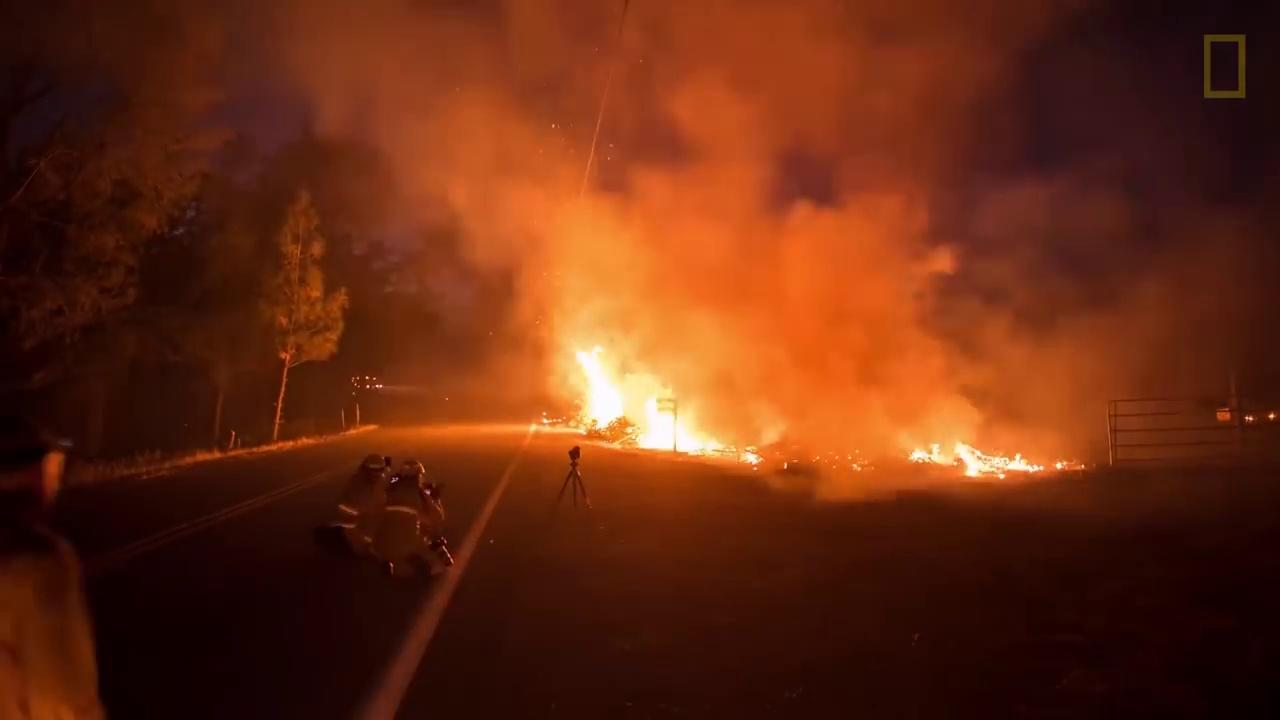Fire: (573, 348, 766, 472), (909, 440, 1038, 487), (1055, 459, 1089, 472)
